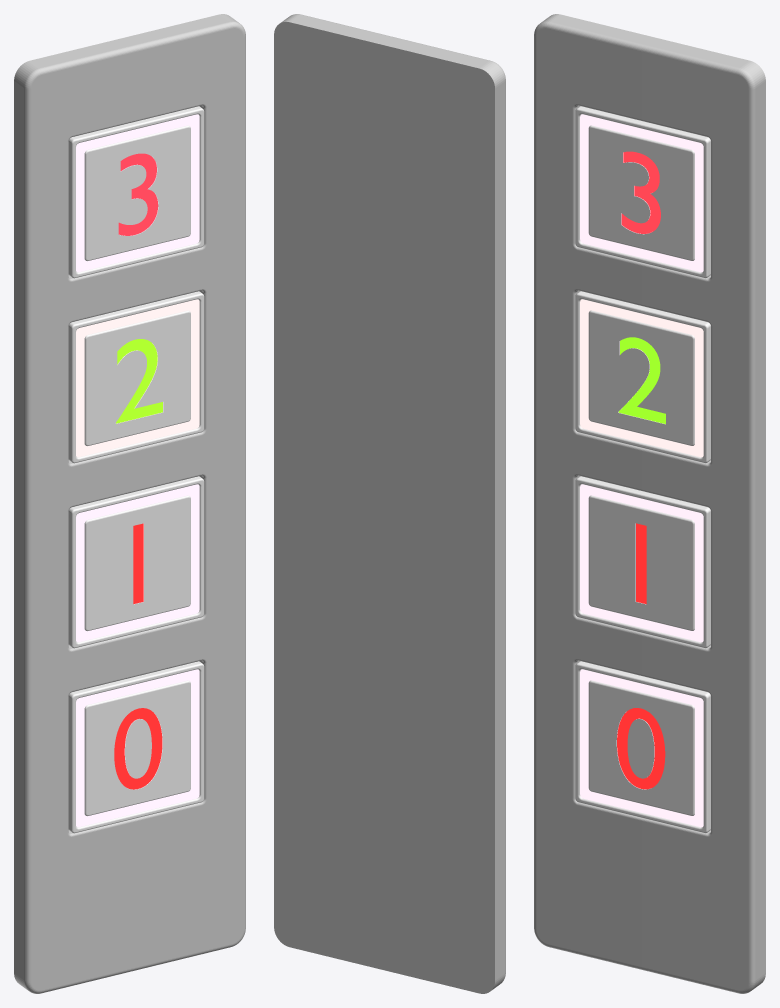
File: elevator_button_-_lift 1.glb
3 renders of one model, left to right at view 1: azimuth 30°, elevation 25°; view 2: azimuth 150°, elevation 25°; view 3: azimuth 330°, elevation 25°, orthographic.
Visible parts, largest first — view 1: PANEL 1; view 2: PANEL 1; view 3: PANEL 1.
Boxes of the visible parts, x1,y1,x2,y2 form: PANEL 1: [14, 14, 245, 993]; PANEL 1: [274, 14, 505, 993]; PANEL 1: [534, 14, 765, 993].
Size of the model in its own units: 5 by 20 by 0.5551.
